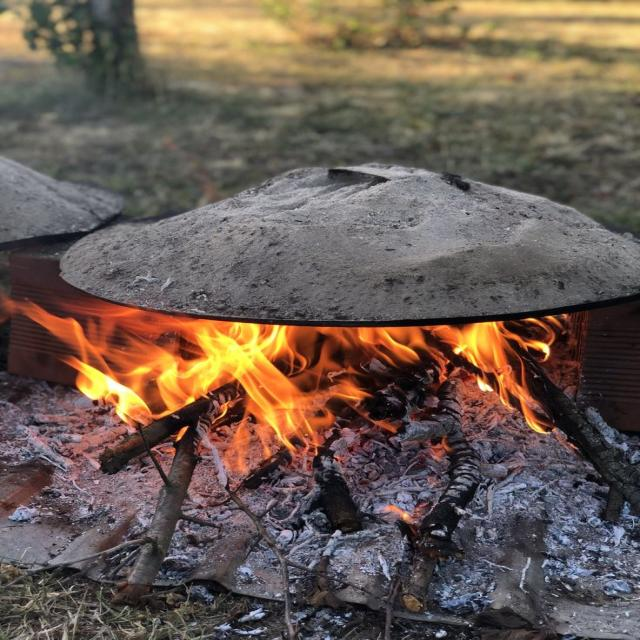fire: (0, 300, 569, 480)
